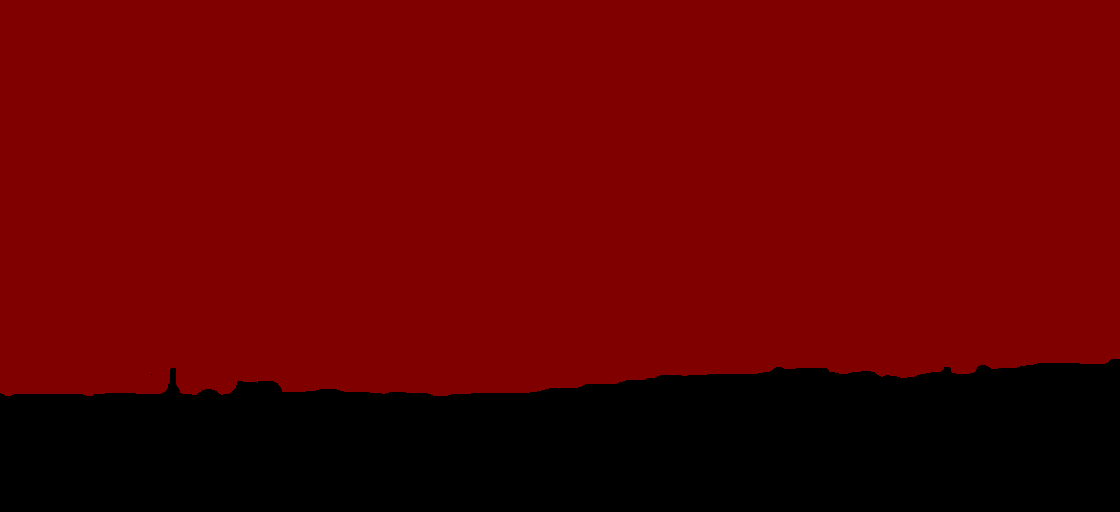Sky: (1, 1, 1119, 395)
